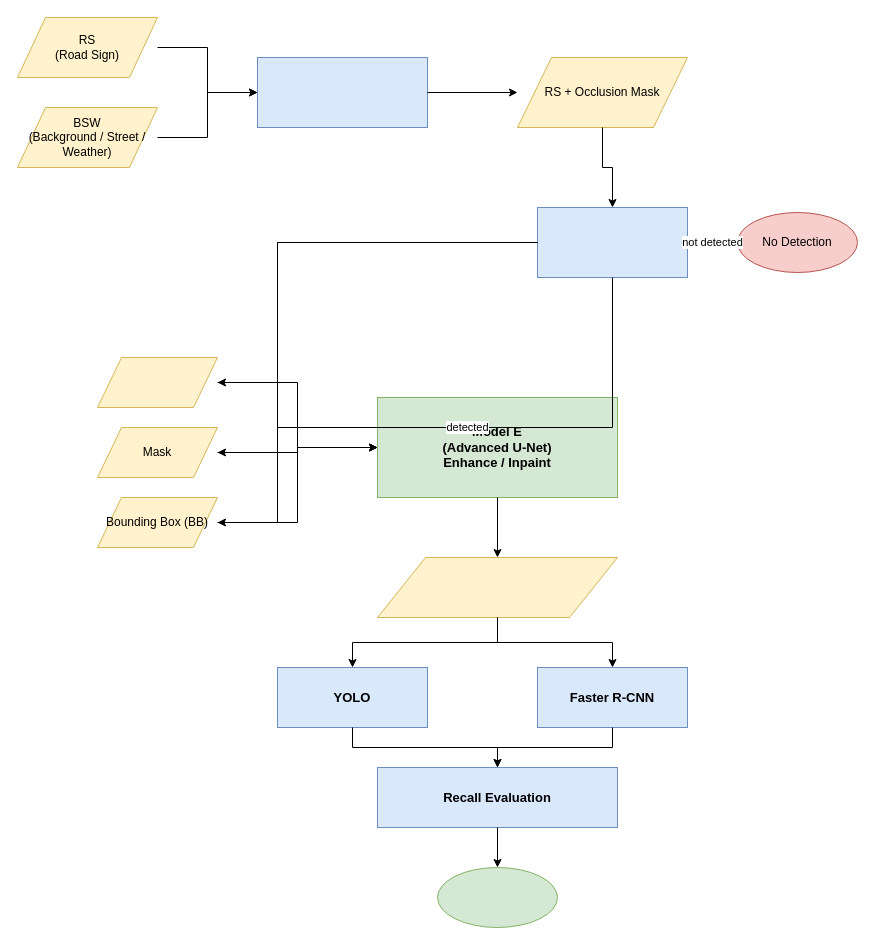
Image size: 875x945. Some labels were removed from this diagram. Each missing label, with the centre of its shape:
"Detection" belongs at (612,242).
"Occlusion Add" belongs at (342,92).
"Reconstructed Sign Image" belongs at (497,587).
"Result" belongs at (497,897).
"RS" belongs at (157,382).
